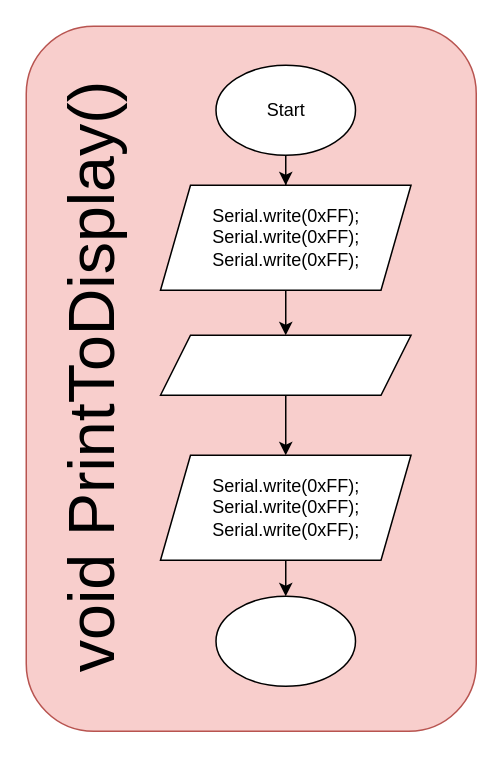
This 503x758 diagram has some shape labels left out. The shapes that lost their labels are listed below. From the top down, each one's box as (x1, y1, x2, y2) in pixels, then its label:
(159, 334, 411, 395): Serial.print(print)
(214, 595, 356, 686): End
